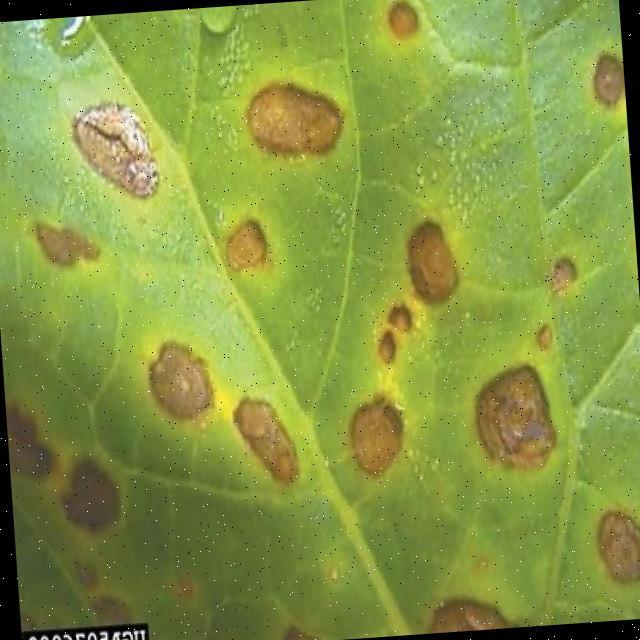Bacterial: (25, 62, 604, 565)
